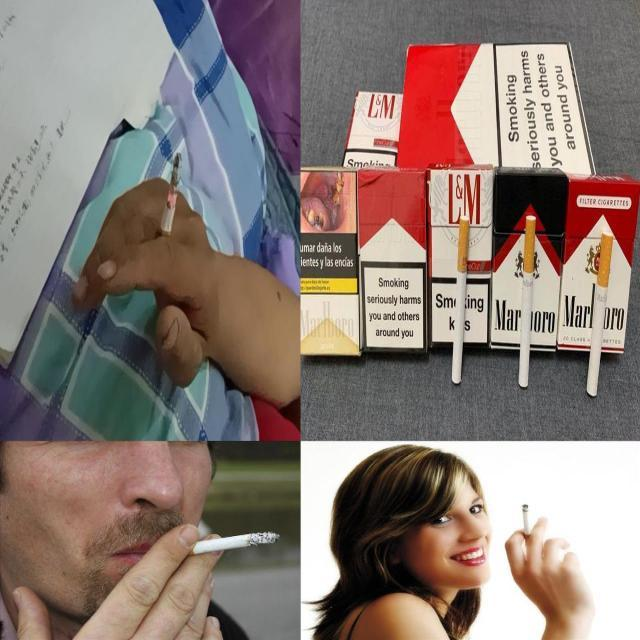smoking: (586, 231, 614, 397), (165, 528, 282, 556), (518, 215, 536, 388), (452, 217, 469, 384), (155, 155, 181, 255), (522, 502, 532, 548)
